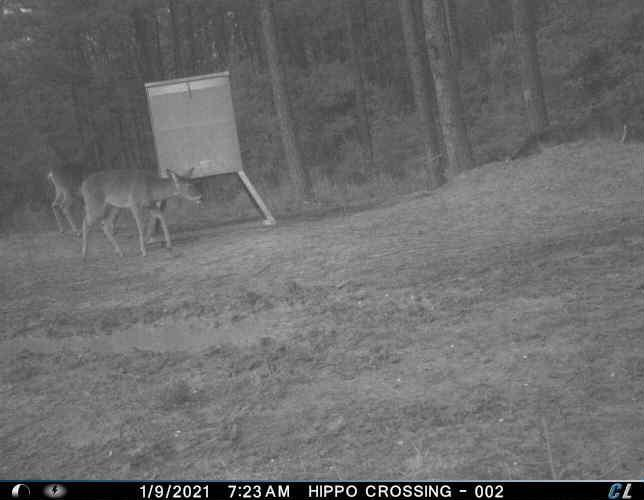Deer: (80, 165, 206, 258), (52, 155, 95, 236)
